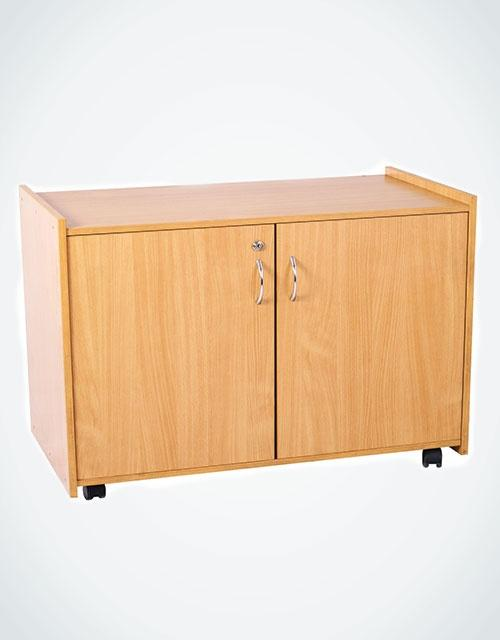cabinet_door: (77, 225, 277, 461), (275, 221, 464, 448)
handle: (254, 258, 269, 308), (286, 253, 300, 303)
